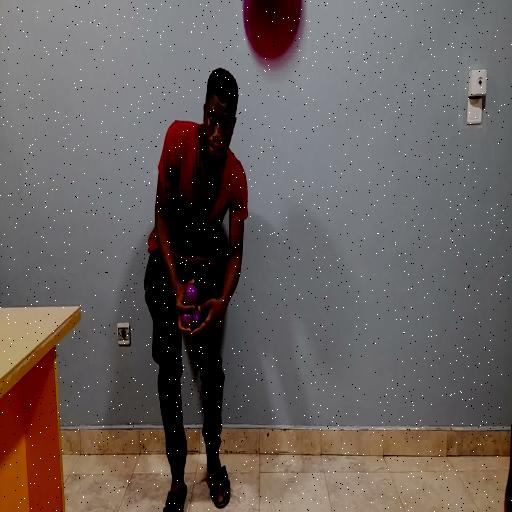plastic-ball: (242, 0, 300, 61)
